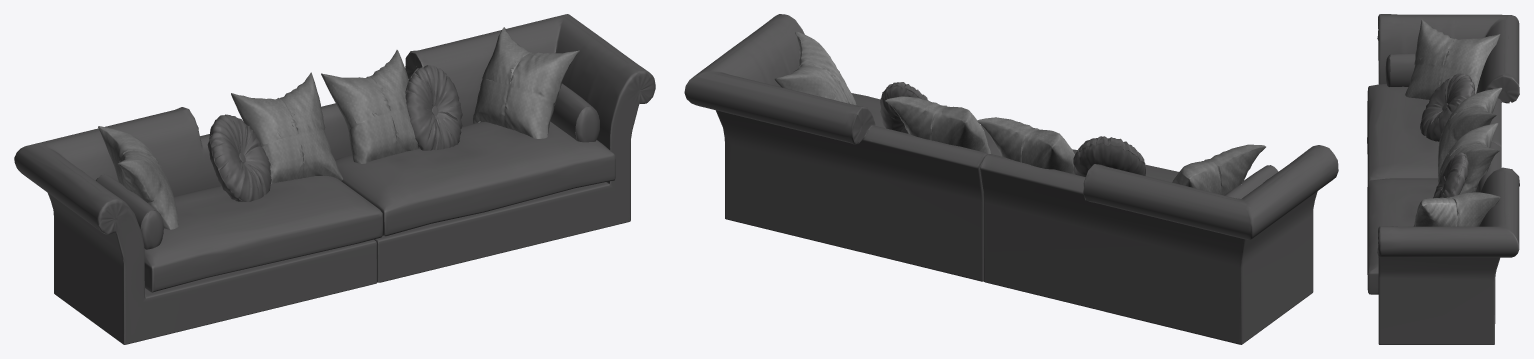
Rendered from Three_Seat_Multi_person_sofa_4b9b58e1-2add-5752-842a-63a364e8d949.glb.
3 views of the same model, side by side, from view 1: azimuth 30°, elevation 25°; view 2: azimuth 150°, elevation 25°; view 3: azimuth 270°, elevation 25° (orthographic). The views are drawn at different scales.
Parts seen in each view (by area): view 1: raw_model.obj; view 2: raw_model.obj; view 3: raw_model.obj.
Part boxes in pixels (x1,y1,x2,y2): raw_model.obj: (14,14,655,344); raw_model.obj: (684,14,1338,344); raw_model.obj: (1367,14,1519,344).
Size of the model in its own units: 3.39 by 0.9203 by 0.9761.
1 material, 1 textured.
